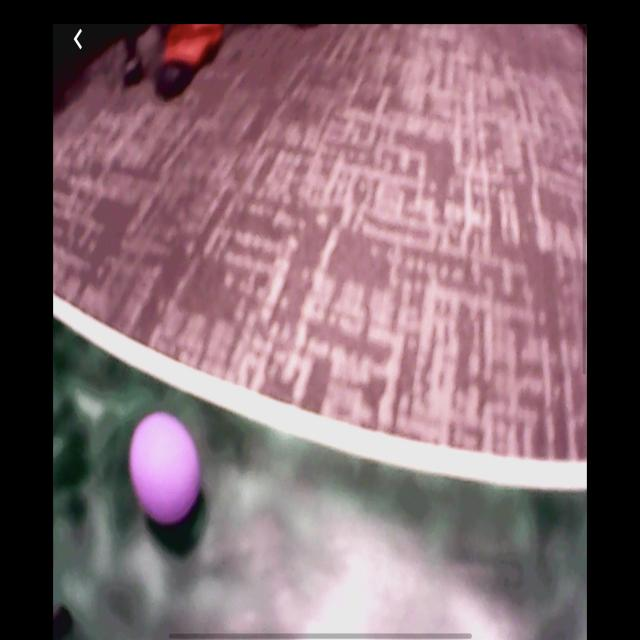ball: (129, 412, 204, 527)
